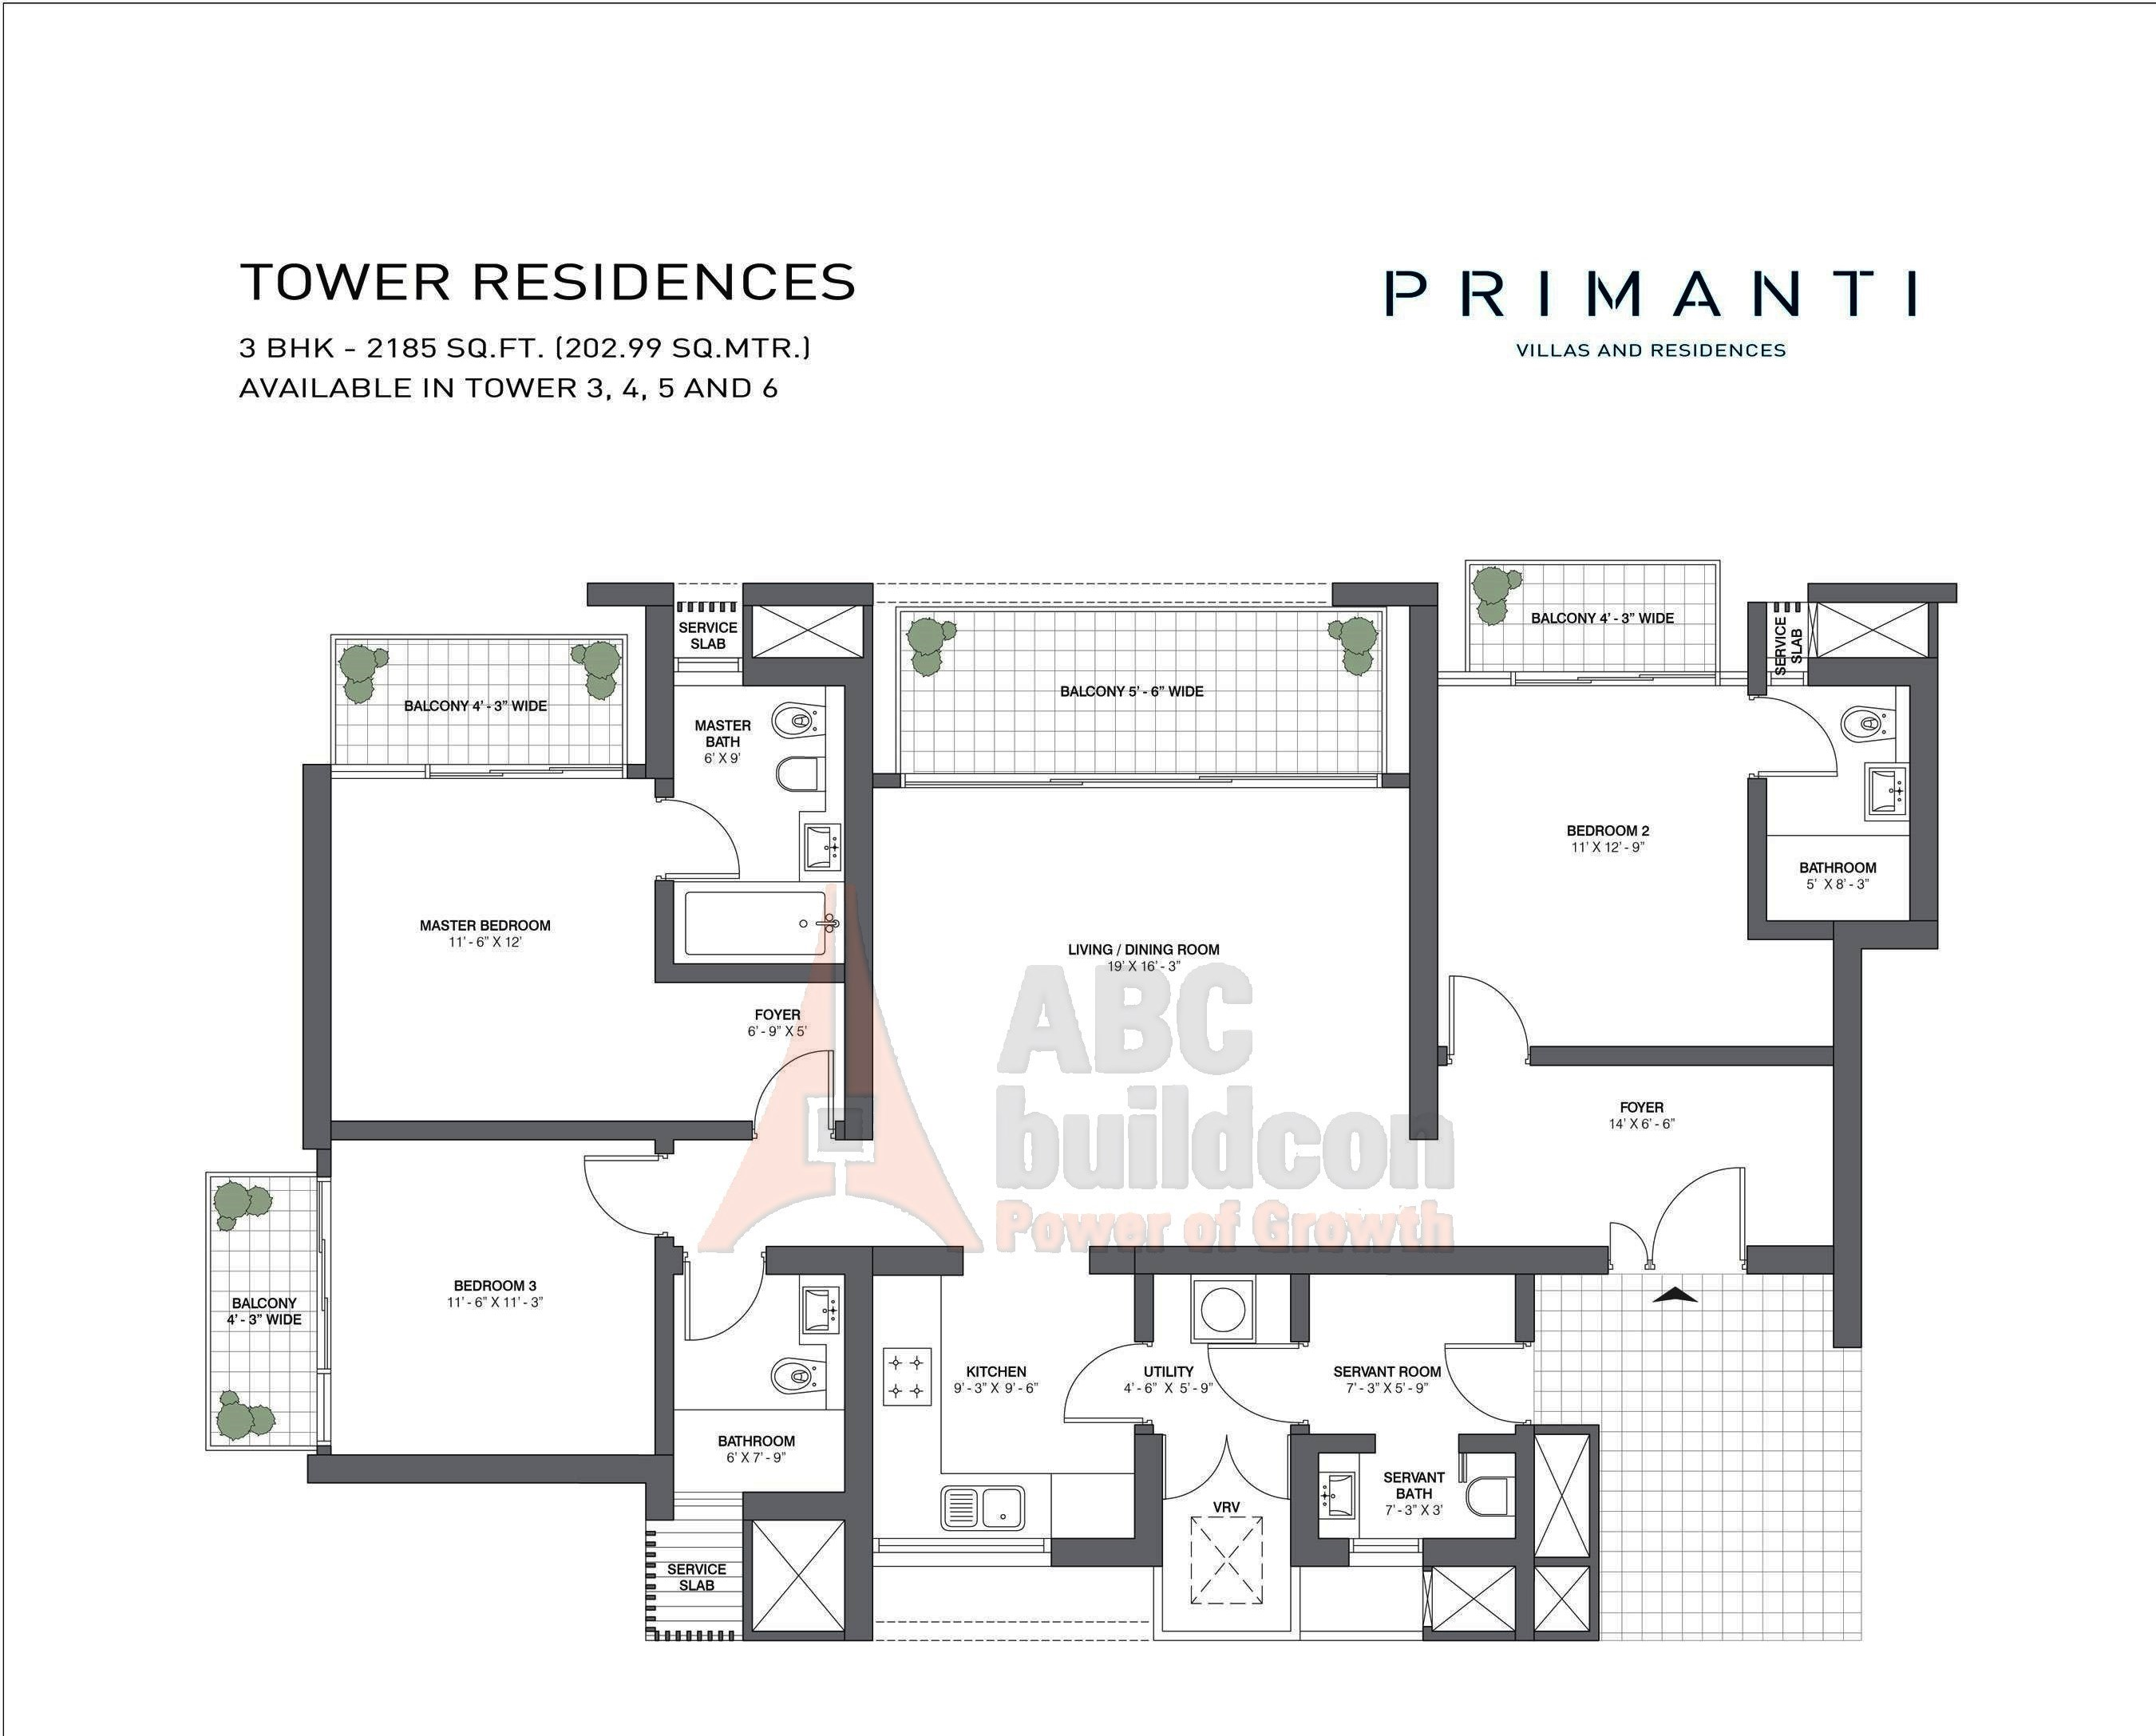room: (1807, 581, 1938, 604), (741, 585, 873, 606), (1926, 604, 1942, 661), (863, 608, 877, 663), (741, 604, 753, 650)
wall: (841, 691, 872, 1141), (301, 1454, 677, 1486), (299, 765, 328, 1151), (1414, 790, 1437, 1137), (1906, 682, 1938, 921), (1297, 1249, 1536, 1277), (847, 1245, 872, 1492), (643, 583, 673, 779), (1525, 1049, 1858, 1066), (1834, 1065, 1860, 1254), (1414, 604, 1437, 792), (1290, 1428, 1322, 1562), (657, 1242, 677, 1453), (652, 964, 840, 985), (1157, 1245, 1313, 1270), (744, 657, 873, 686), (845, 1520, 875, 1639), (326, 1123, 659, 1134), (1834, 923, 1862, 1047), (1051, 1536, 1166, 1566), (744, 1493, 873, 1520), (1421, 1538, 1532, 1566), (872, 1245, 966, 1279), (767, 1249, 873, 1277), (1747, 778, 1766, 932), (1130, 1435, 1160, 1534), (1814, 661, 1936, 684), (1835, 1245, 1862, 1346), (1524, 1244, 1612, 1274), (652, 880, 679, 978), (1745, 1247, 1835, 1275), (1136, 1245, 1155, 1345), (1750, 919, 1839, 941), (1332, 586, 1437, 604), (1511, 1566, 1536, 1639), (586, 585, 677, 604), (1749, 604, 1768, 694), (1865, 921, 1936, 946), (670, 1121, 751, 1143), (1291, 1433, 1380, 1453), (1091, 1247, 1155, 1274), (1291, 1251, 1309, 1346), (748, 1631, 872, 1644), (1456, 1433, 1532, 1453), (1291, 1541, 1350, 1566), (1513, 1274, 1534, 1341), (742, 1520, 755, 1626), (1518, 1454, 1532, 1543), (1426, 1631, 1515, 1644), (1587, 1559, 1600, 1644), (645, 1486, 673, 1522), (1591, 1421, 1598, 1561), (836, 1125, 873, 1144), (654, 1120, 671, 1159), (622, 763, 670, 778), (315, 1144, 331, 1180), (654, 767, 675, 794), (1525, 1559, 1601, 1566), (868, 771, 900, 785), (1384, 771, 1414, 785), (1539, 1633, 1598, 1640), (315, 1445, 330, 1458), (1139, 1426, 1153, 1438)
